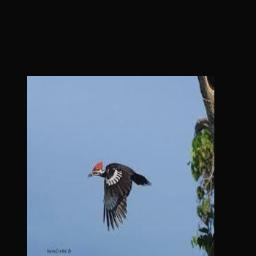Woodpecker: (88, 160, 152, 231)
